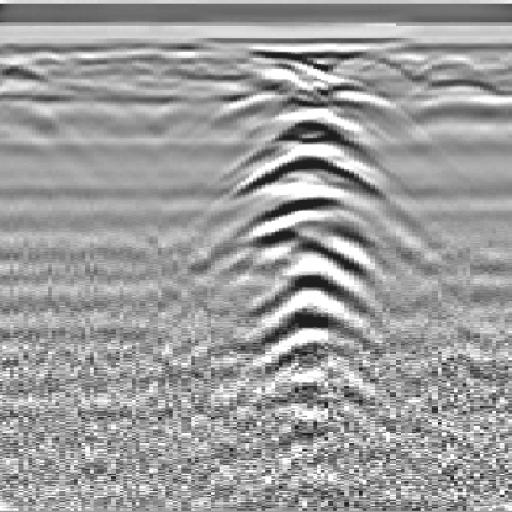metalic: (172, 57, 455, 399)
